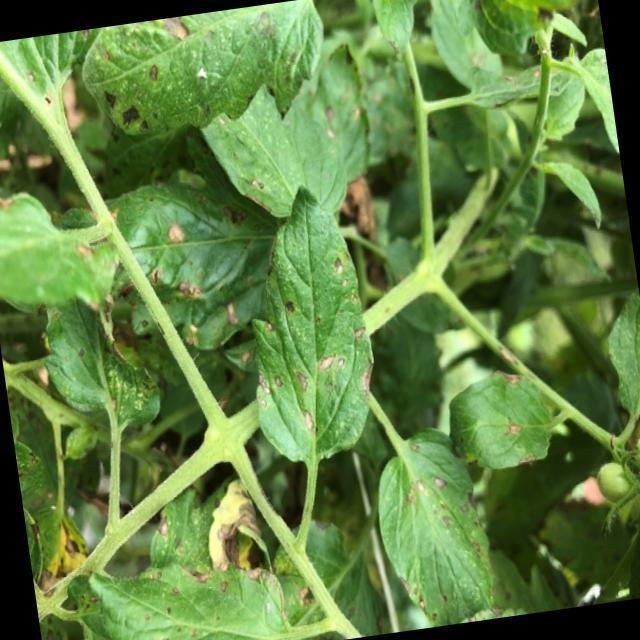Septoria: (232, 202, 388, 456), (94, 8, 297, 136), (398, 431, 491, 608), (123, 545, 290, 640)
